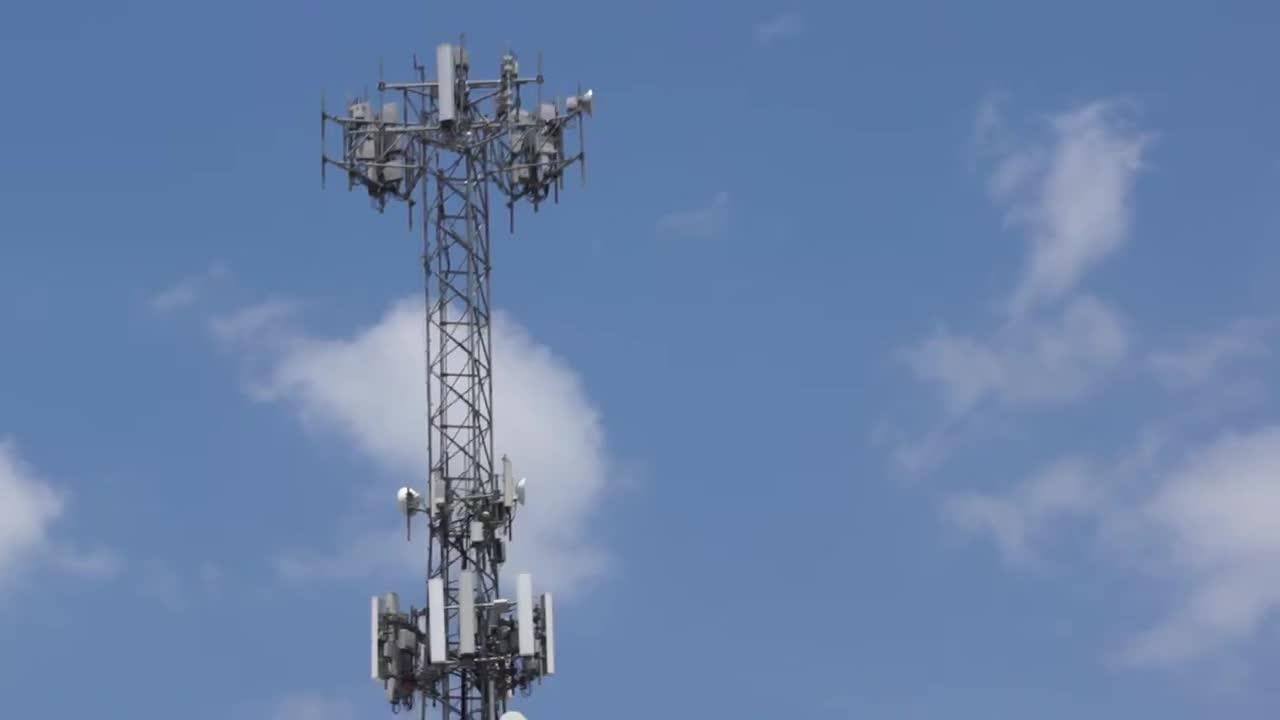Microwave Antenna: (389, 477, 428, 520), (563, 85, 607, 123), (513, 473, 534, 512)
antenna: (367, 593, 394, 683), (454, 565, 479, 662), (422, 573, 447, 667), (516, 570, 538, 663), (437, 45, 459, 133), (540, 595, 563, 675), (499, 456, 517, 514)
